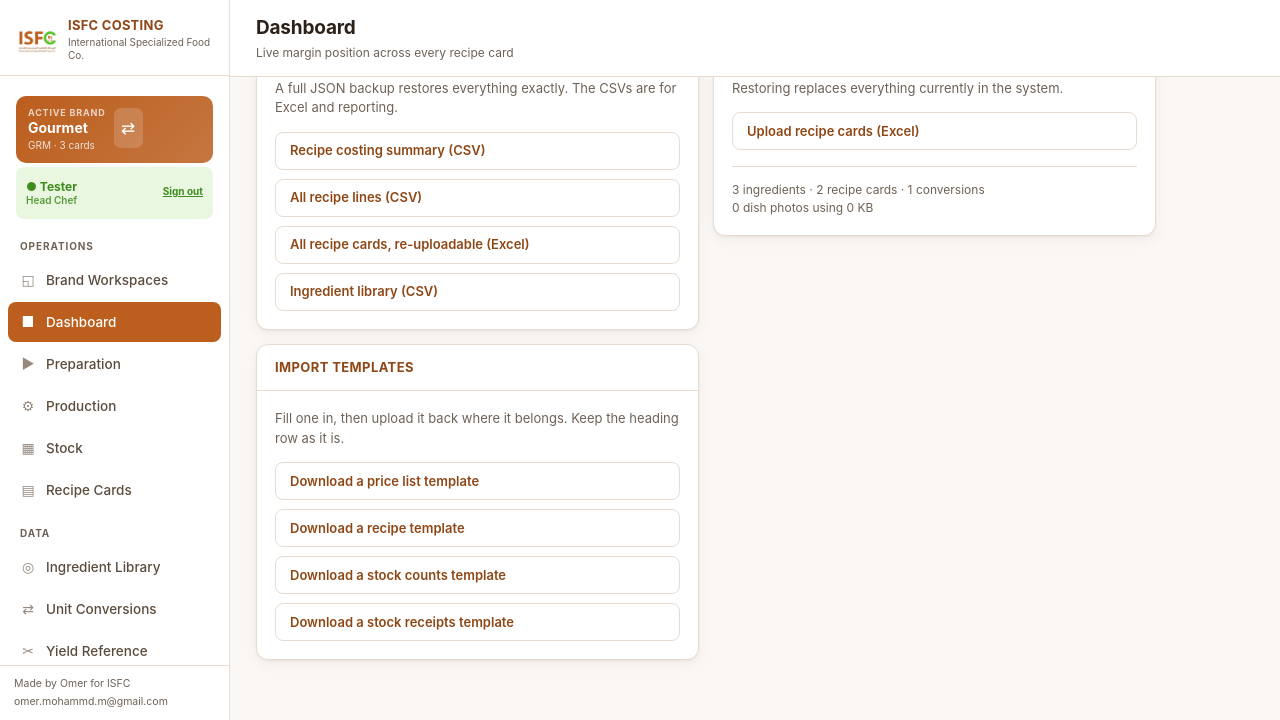
Test: Backup & Export: Import templates card (D-86) › with no sites it says so and offers no download
(page scrolled)
Click the button "Download a stock counts template": (478, 575) [275, 556, 680, 594]
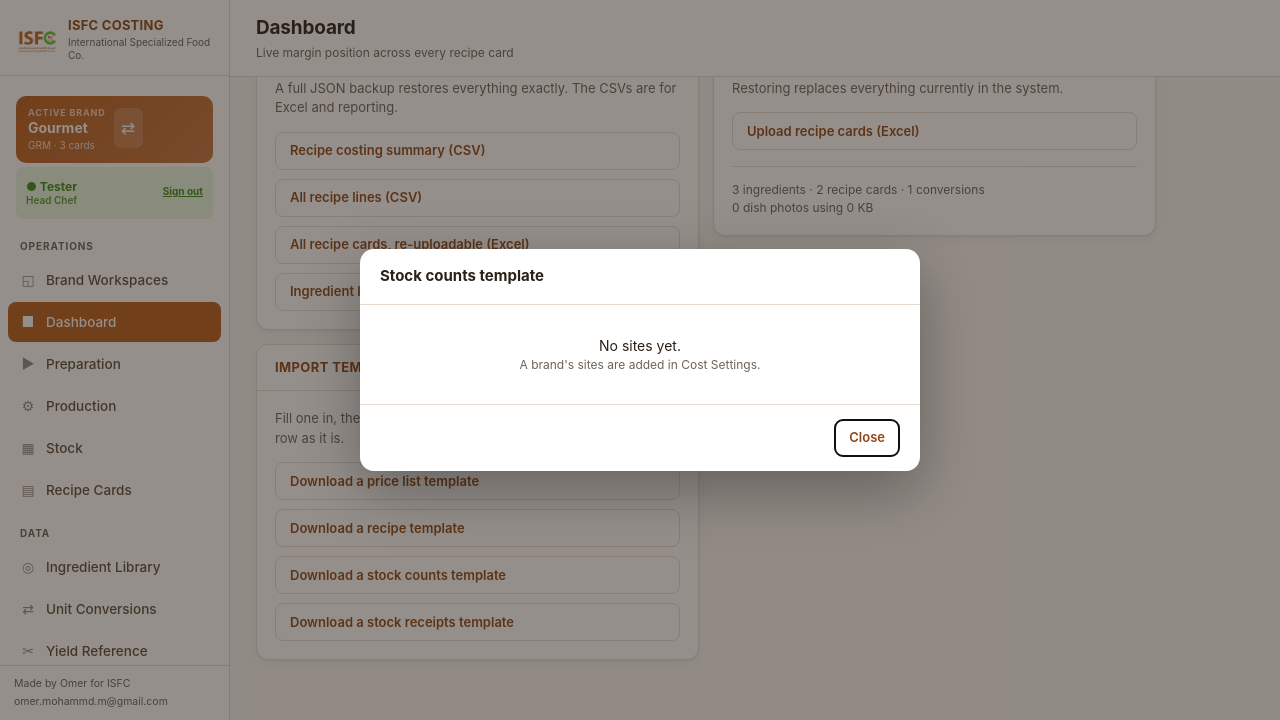
Check: the text "No sites yet." is shown, box [599, 337, 681, 354]
